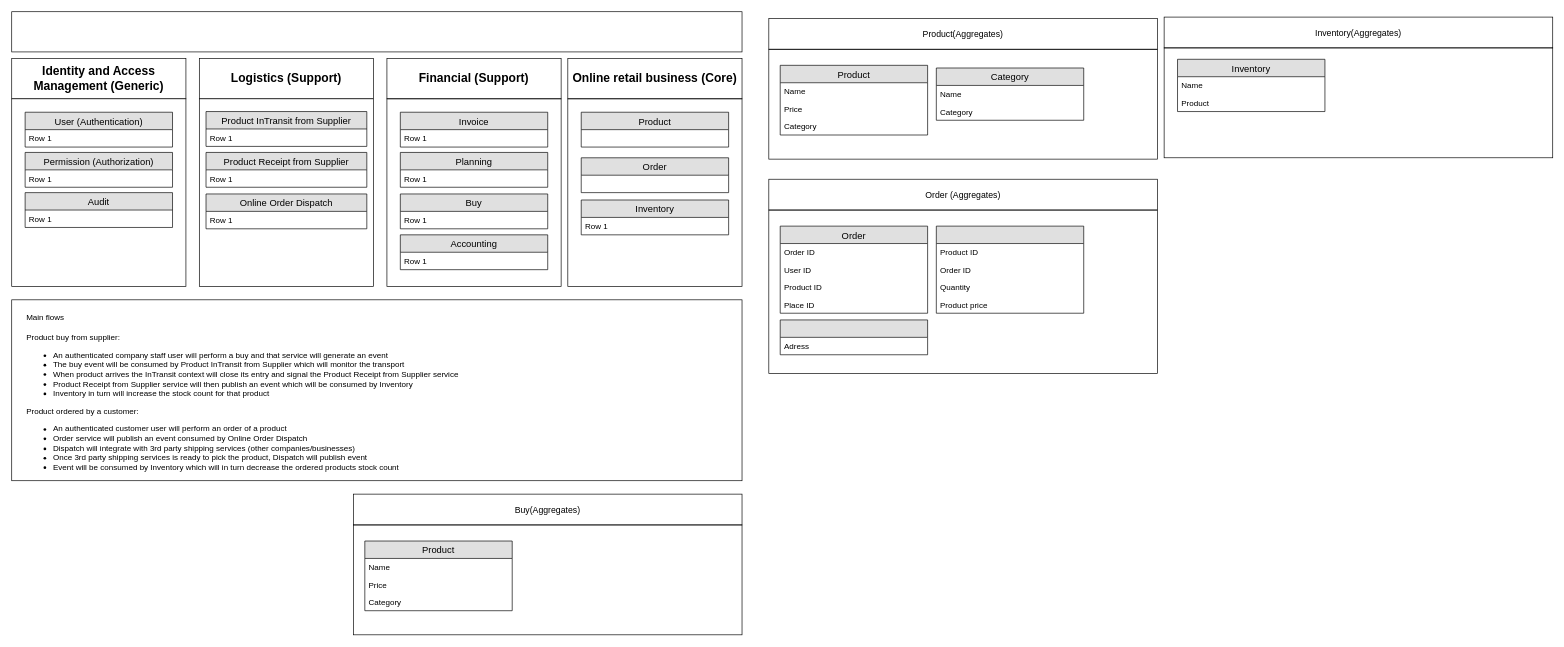
The diagram is 1564 pixels wide and 647 high, and some of its shapes have lost their labels. The shapes that lost their labels are listed below. From the top down, each one's box as (x1, y1, x2, y2) in pixels, then its label:
(11, 11, 742, 52): DOMAIN - Online retail business (Core)
(936, 225, 1084, 313): Order product
(780, 319, 928, 355): Place
